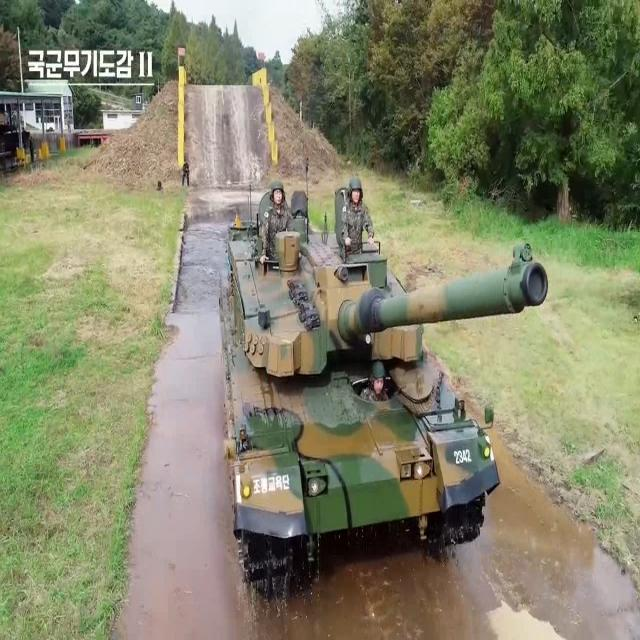korea tank: (220, 156, 550, 596)
